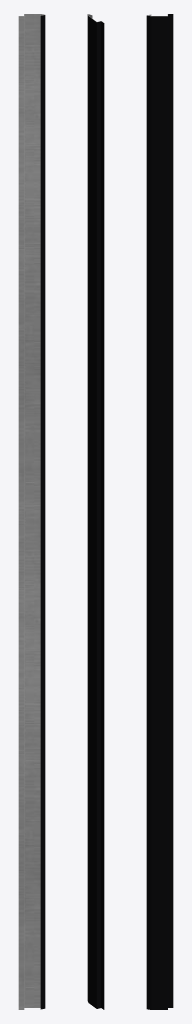
The model's file is bande solin à maçonner.gltf.
3 views of the same model, side by side, from view 1: azimuth 90°, elevation 25°; view 2: azimuth 210°, elevation 25°; view 3: azimuth 270°, elevation 25° (orthographic).
Parts seen in each view (by area): view 1: bande solin à maçonner; view 2: bande solin à maçonner; view 3: bande solin à maçonner.
Boxes of the visible parts, x1,y1,x2,y2 form: bande solin à maçonner: [18, 14, 45, 1009]; bande solin à maçonner: [87, 14, 104, 1009]; bande solin à maçonner: [146, 14, 173, 1009].
Bounding box in the file's own units: 0.015 × 3 × 0.0738.
Materials: 3 (1 with a texture image).
